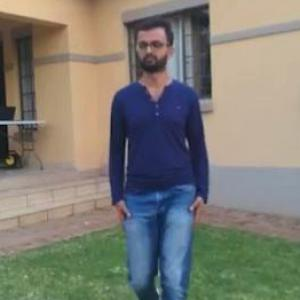follow: (108, 23, 202, 299)
